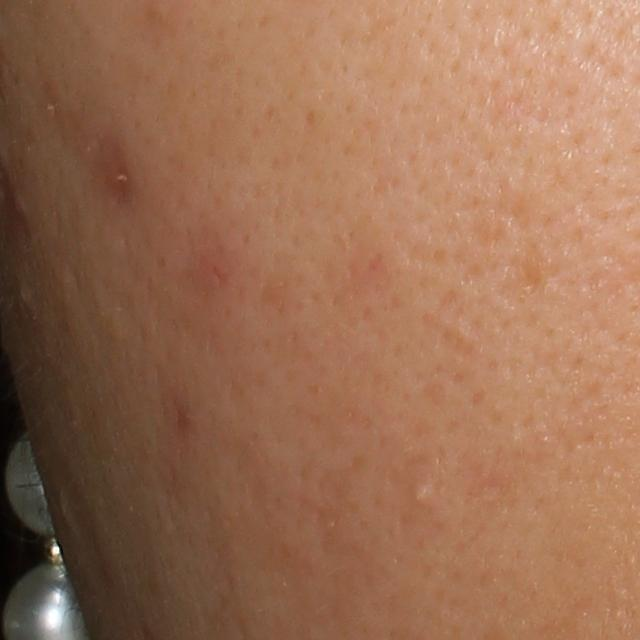comedo: (406, 480, 434, 514)
